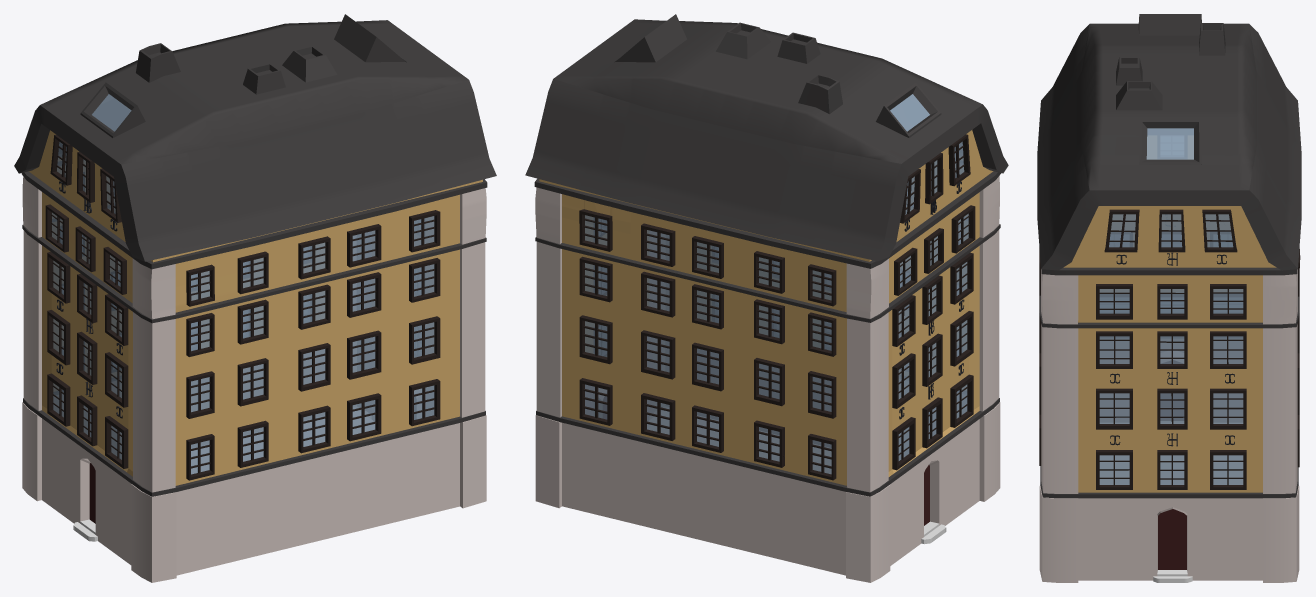
The model's file is StorTorget_CornerHouse.fbx.
The picture shows the model from 3 angles, left to right: view 1: azimuth 30°, elevation 25°; view 2: azimuth 150°, elevation 25°; view 3: azimuth 270°, elevation 25°; orthographic projection. The views are drawn at different scales.
Visible parts, largest first — view 1: StortorgetCornerHouse; view 2: StortorgetCornerHouse; view 3: StortorgetCornerHouse.
Boxes of the visible parts, <box> form: StortorgetCornerHouse: <box>14,14,496,582</box>; StortorgetCornerHouse: <box>525,14,1008,582</box>; StortorgetCornerHouse: <box>1037,14,1301,582</box>.
Size of the model in its own units: 235 by 282 by 154.
